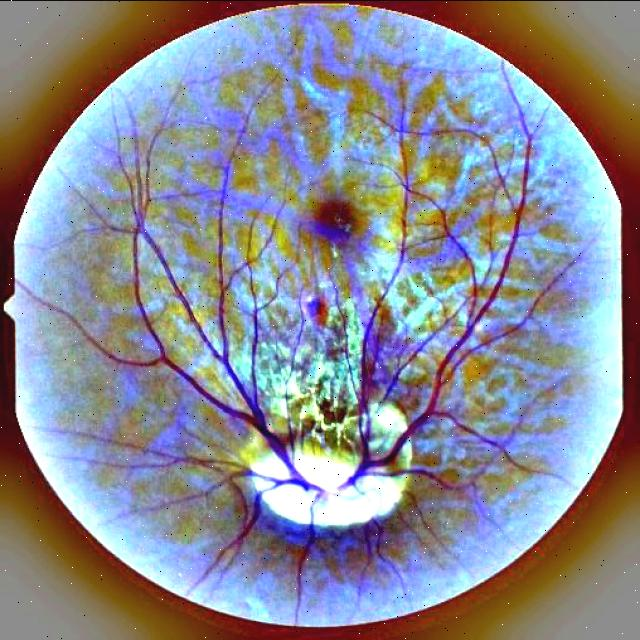Macula: (304, 200, 353, 243)
Nerves: (126, 110, 533, 508)
Optic Disk: (241, 435, 403, 527)
